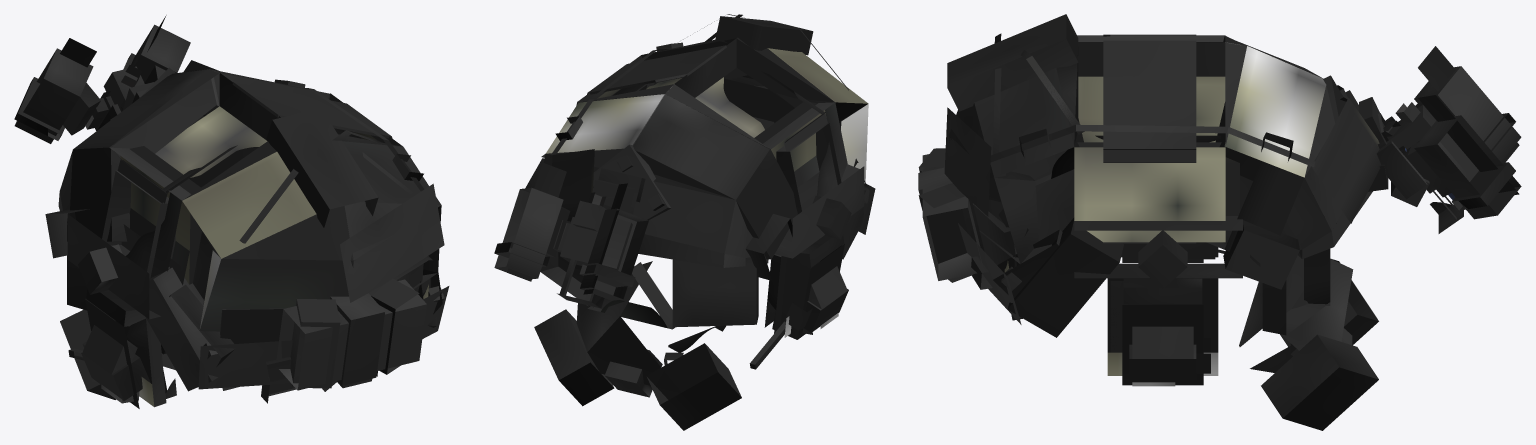
File: cqb_kit_h.obj
3 views of the same model, side by side, from view 1: azimuth 30°, elevation 25°; view 2: azimuth 150°, elevation 25°; view 3: azimuth 270°, elevation 25° (orthographic). The views are drawn at different scales.
Visible parts, largest first — view 1: plane; view 2: plane; view 3: plane.
Boxes of the visible parts, left/top/right/bottom form: plane: left=14, top=15, right=449, bottom=408; plane: left=494, top=14, right=875, bottom=430; plane: left=918, top=14, right=1521, bottom=430.
Size of the model in its own units: 1.01 by 0.89 by 1.3.
